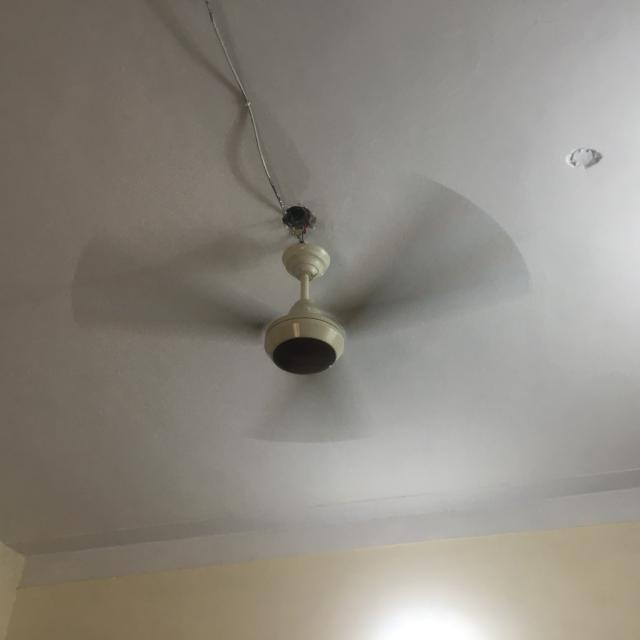on: (63, 171, 542, 452)
